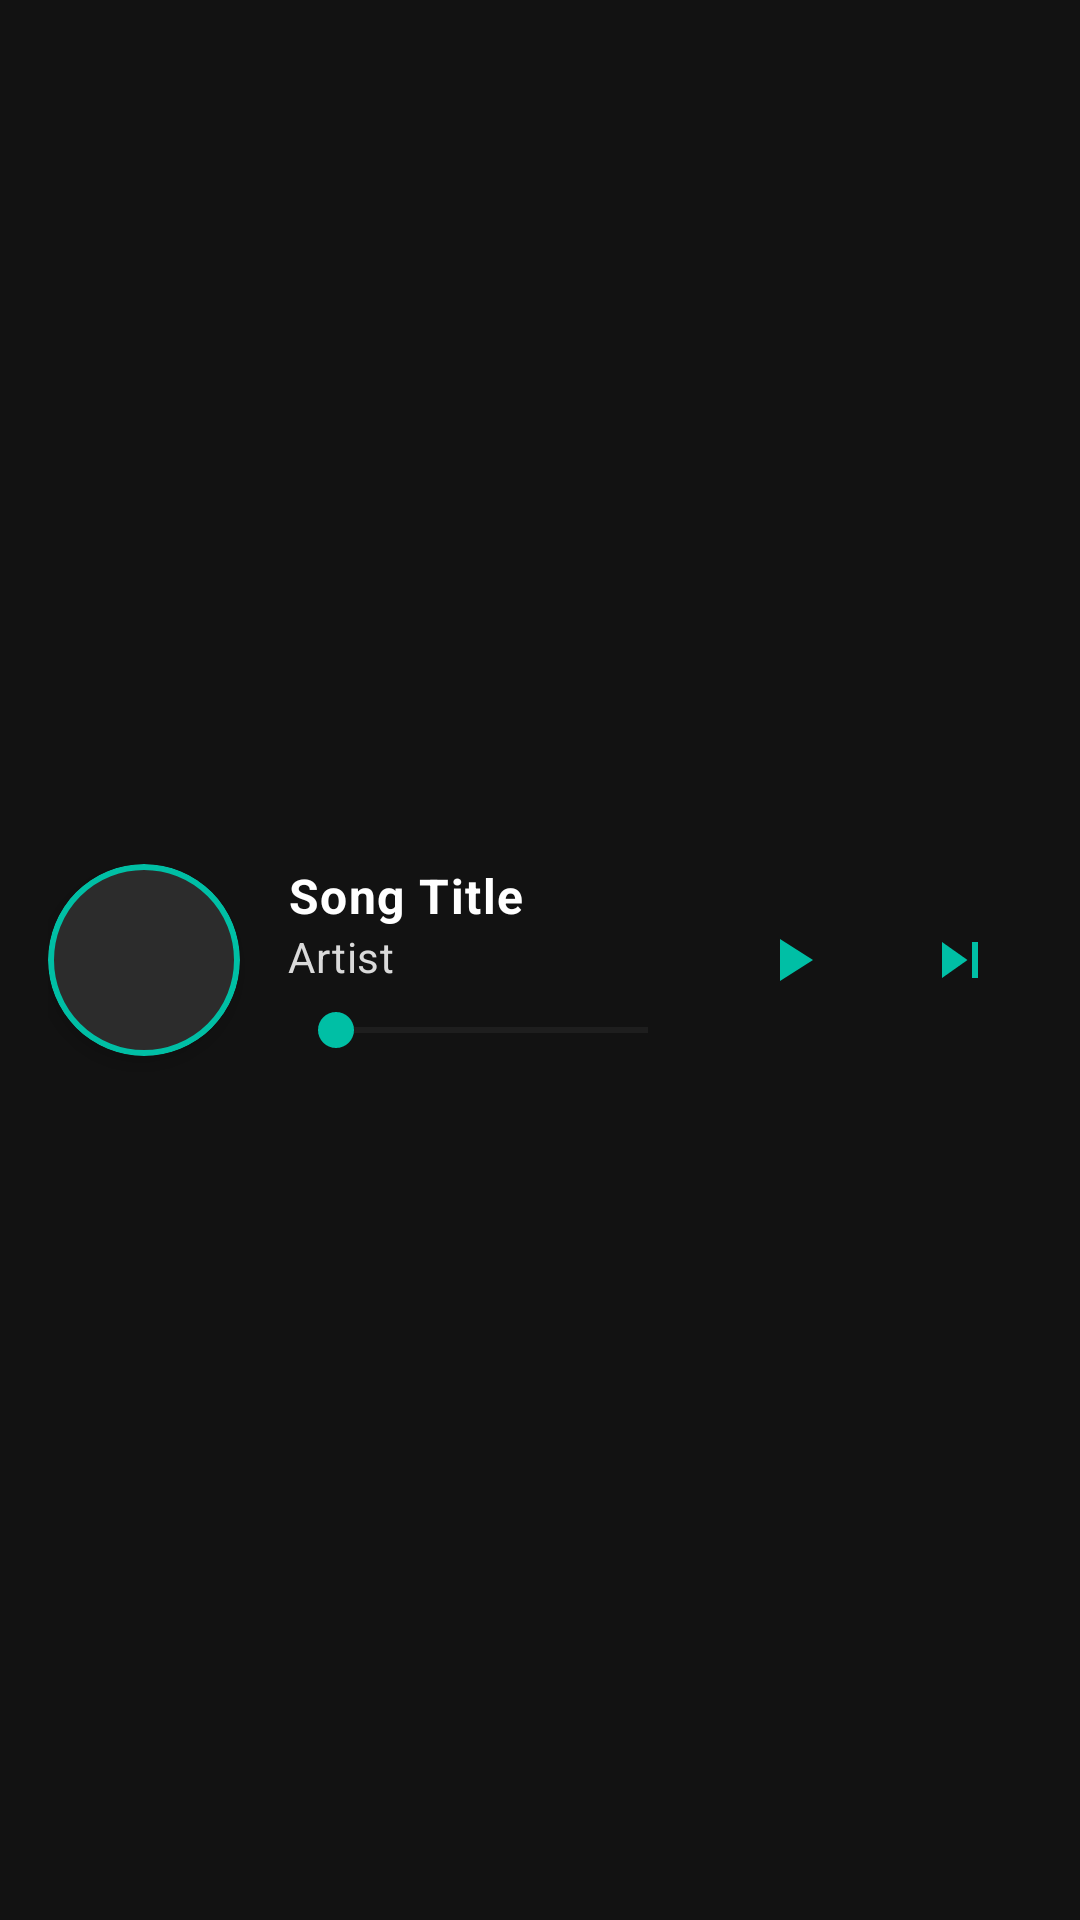

Point at icon controls on the screen. Image size 1080w x 1920h, points as (x=x, y=y).
next: (x=960, y=960)
play: (x=796, y=960)
